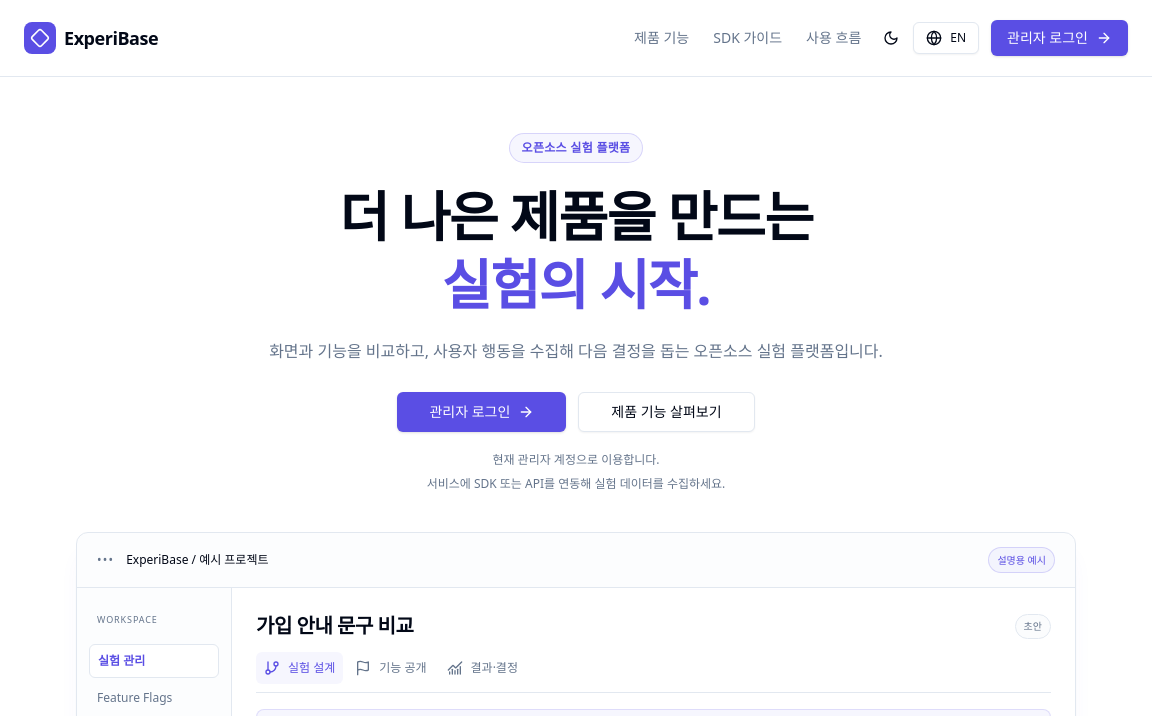
App Component › keeps the introduction readable when session restoration fails
Expected: the 1st heading shows "더 나은 제품", x1=340 y1=179 x2=812 y2=253
Click the button with aria-label "Switch to English" at (946, 38), box x1=913 y1=22 x2=979 y2=54
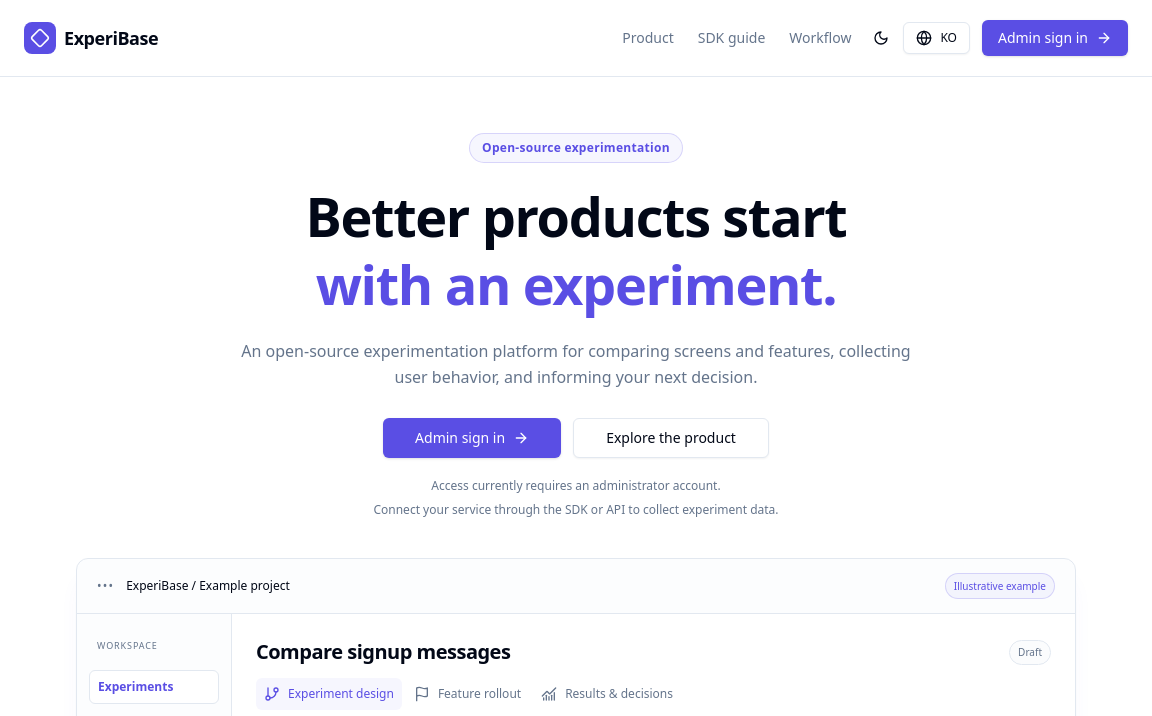
Expected: the heading that starts with "Better products start" is shown, x1=306 y1=179 x2=846 y2=253
Expected: the link "Admin sign in" in the row of "Workflow" is shown, x1=982 y1=20 x2=1128 y2=56
